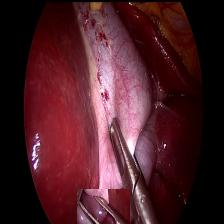Grasper: (105, 112, 163, 224), (76, 188, 129, 224)
